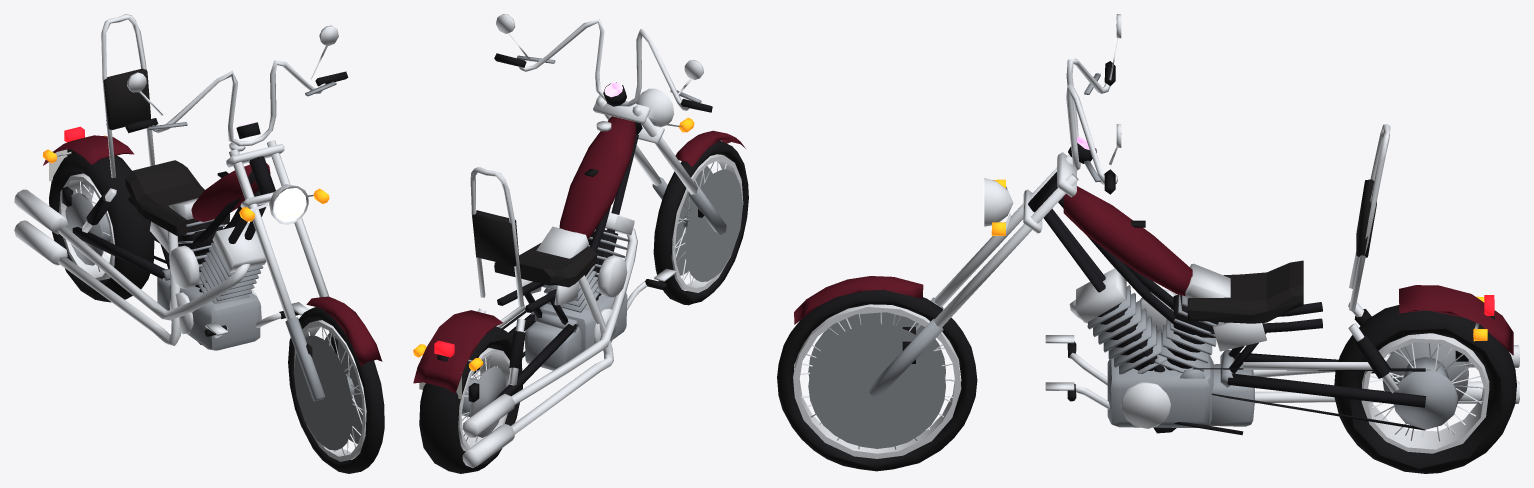
Rendered from iron-serpent-1100_lod1.glb.
The picture shows the model from 3 angles, left to right: view 1: azimuth 30°, elevation 25°; view 2: azimuth 150°, elevation 25°; view 3: azimuth 270°, elevation 25°; orthographic projection. The views are drawn at different scales.
Visible parts, largest first — view 1: LOD1; view 2: LOD1; view 3: LOD1.
Boxes of the visible parts, <box> form: LOD1: <box>14,14,384,473</box>; LOD1: <box>413,14,748,473</box>; LOD1: <box>777,14,1519,473</box>.
Size of the model in its own units: 1 by 1.5 by 2.52.
